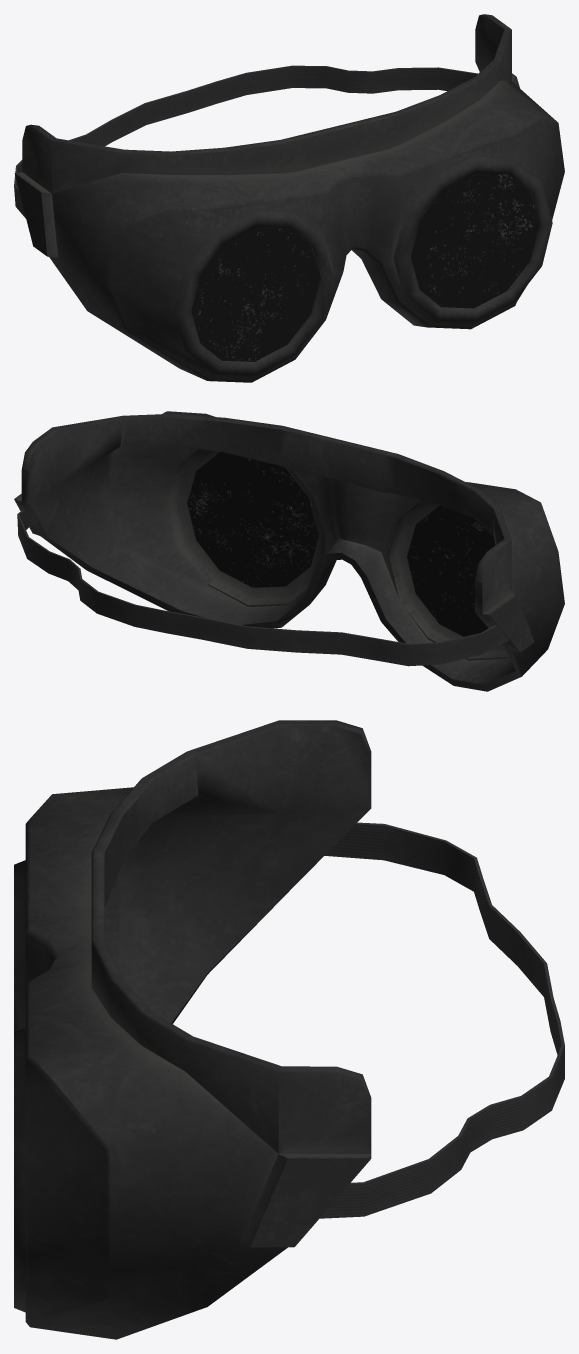
File: Goggles01.FBX
3 renders of one model, top to bottom at view 1: azimuth 30°, elevation 25°; view 2: azimuth 150°, elevation 25°; view 3: azimuth 270°, elevation 25°, orthographic. The views are drawn at different scales.
Parts seen in each view (by area): view 1: Goggles01_LOD0; view 2: Goggles01_LOD0; view 3: Goggles01_LOD0.
Boxes of the visible parts, <box> form: Goggles01_LOD0: <box>14,14,564,382</box>; Goggles01_LOD0: <box>14,411,564,691</box>; Goggles01_LOD0: <box>14,720,564,1339</box>.
Size of what is drawn, in the model's own units: 17.87 by 7.75 by 11.18.
